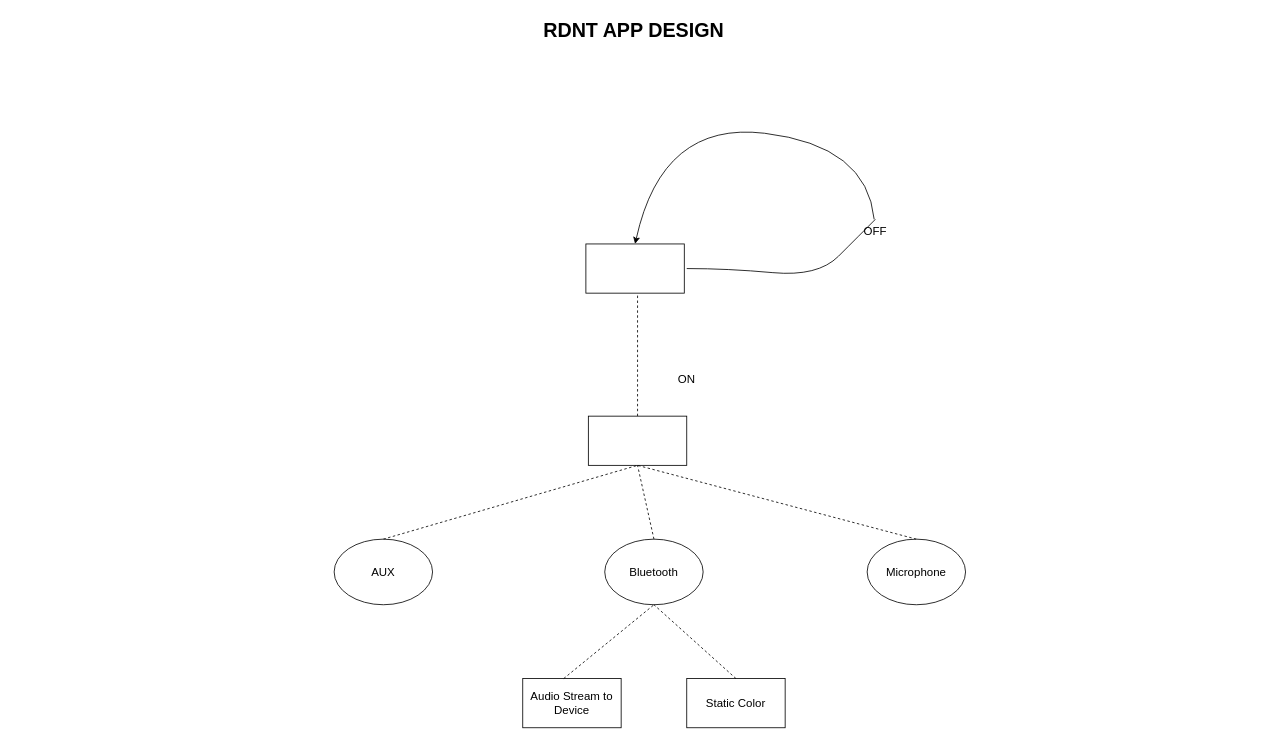
The diagram is 1266 pixels wide and 742 high, and some of its shapes have lost their labels. The box of each missing label's shape, as (x1, y1, x2, y2) in pixels:
Bluetooth ON/OFF: (585, 243, 684, 293)
Mode Selection: (588, 415, 687, 465)
